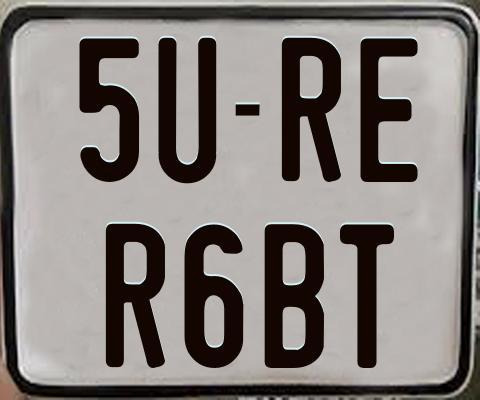5: (79, 38, 145, 183)
6: (184, 221, 246, 367)
B: (263, 224, 325, 371)
E: (358, 37, 419, 185)
R: (105, 221, 170, 365), (282, 38, 341, 185)
T: (337, 222, 397, 371)
U: (158, 36, 222, 187)
